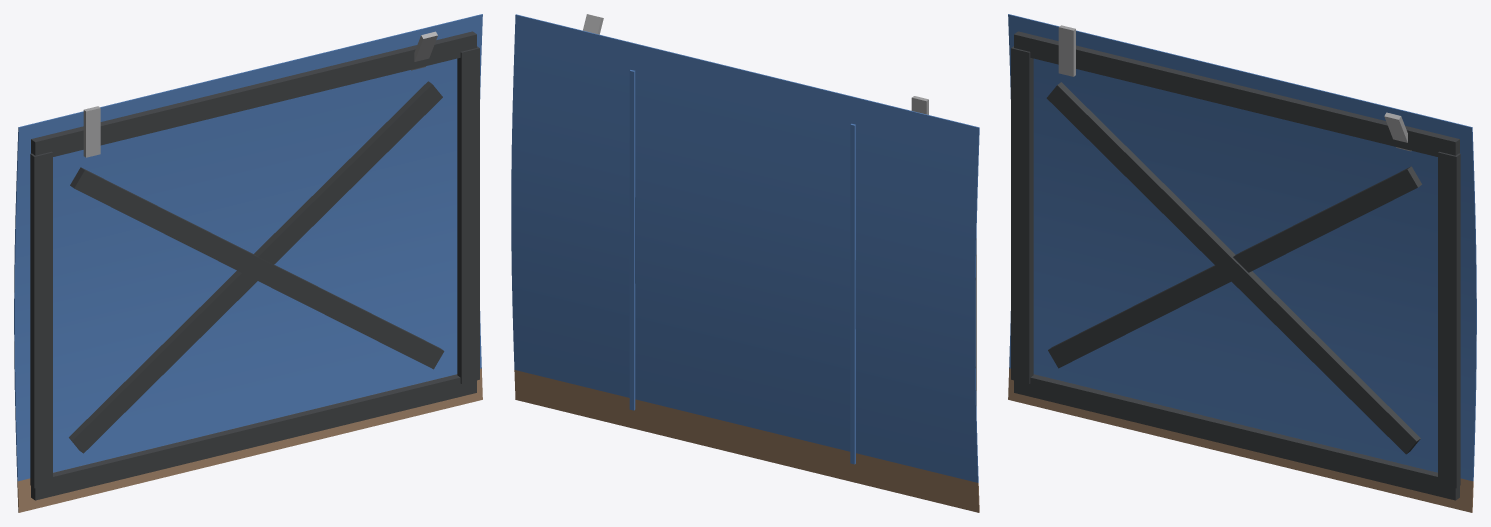
File: car_bonnet.glb
3 renders of one model, left to right at view 1: azimuth 30°, elevation 25°; view 2: azimuth 150°, elevation 25°; view 3: azimuth 330°, elevation 25°, orthographic.
Visible parts, largest first — view 1: body; view 2: body; view 3: body.
Boxes of the visible parts, left/top/right/bottom form: body: left=14, top=14, right=482, bottom=512; body: left=511, top=14, right=979, bottom=512; body: left=1008, top=14, right=1476, bottom=512.
Bounding box in the file's own units: 1.26 × 1.02 × 0.0935.
